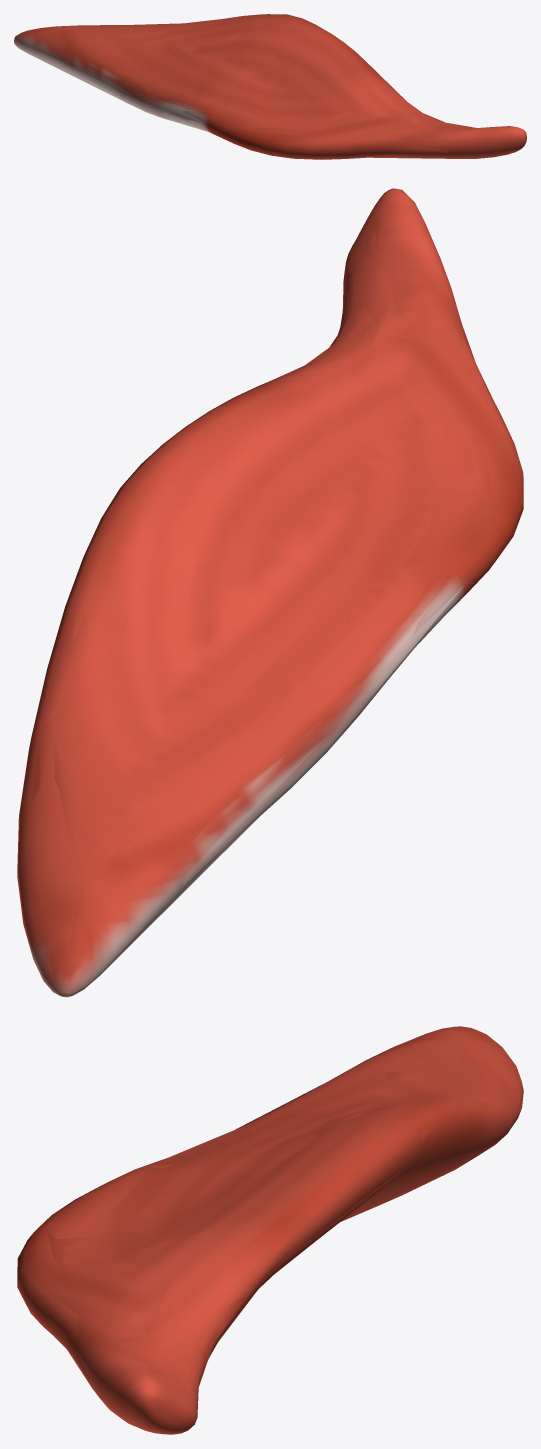
File: L Pectoralis ascendens.fbx
3 views of the same model, one above another, from view 1: azimuth 30°, elevation 25°; view 2: azimuth 150°, elevation 25°; view 3: azimuth 330°, elevation 25° (orthographic). The views are drawn at different scales.
Visible parts, largest first — view 1: L Pectoralis ascendens, L Pectoralis ascendens low; view 2: L Pectoralis ascendens, L Pectoralis ascendens low; view 3: L Pectoralis ascendens, L Pectoralis ascendens low.
Boxes of the visible parts, <box> form: L Pectoralis ascendens: <box>14,14,526,159</box>; L Pectoralis ascendens low: <box>14,18,526,159</box>; L Pectoralis ascendens: <box>17,188,523,997</box>; L Pectoralis ascendens low: <box>20,212,522,996</box>; L Pectoralis ascendens: <box>17,1026,523,1434</box>; L Pectoralis ascendens low: <box>18,1026,521,1424</box>.
Size of the model in its own units: 7.38 by 4.61 by 23.35.
